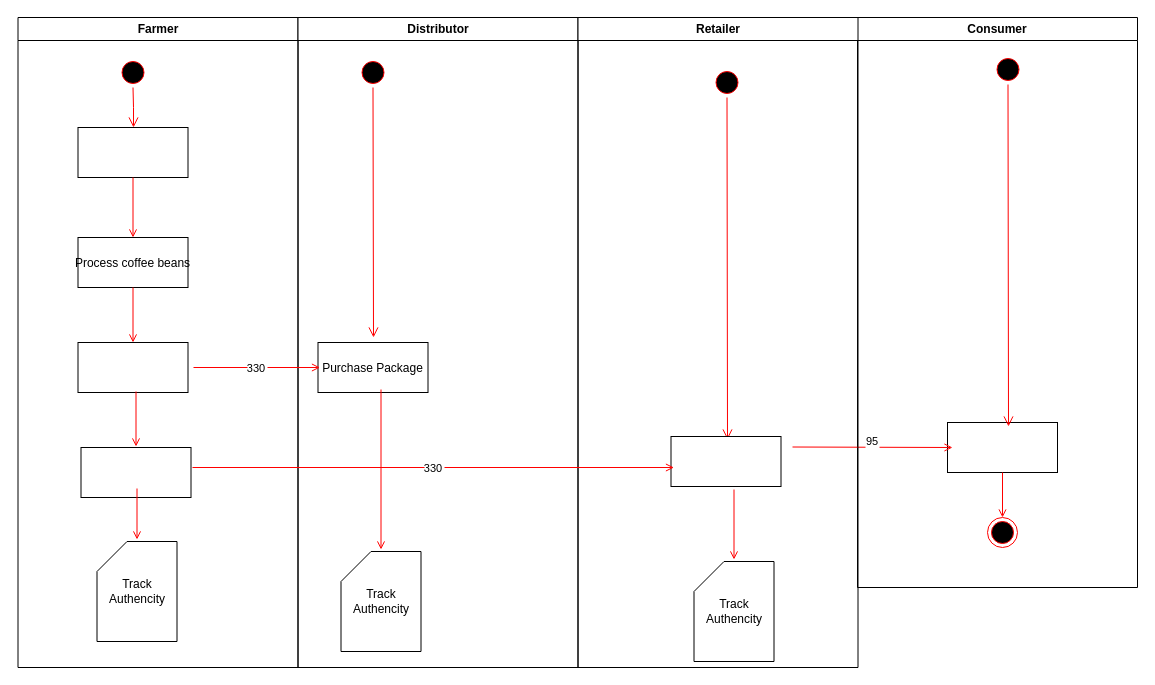
This 1155x685 diagram has some shape labels left out. The centre of each missing label's shape, as x and y in pixels:
"Harvest coffee beans" belongs at point 132,152.
"Pack coffee palettes" belongs at point 132,367.
"Purchase Coffee" belongs at point 1002,447.
"ReceivePackage" belongs at point 725,461.
"Ship Packages" belongs at point 135,472.
